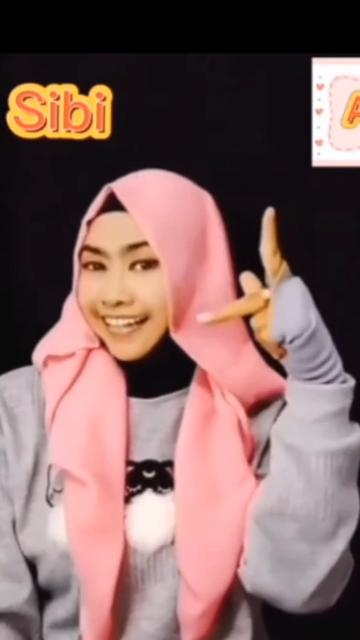K: (192, 204, 336, 370)
